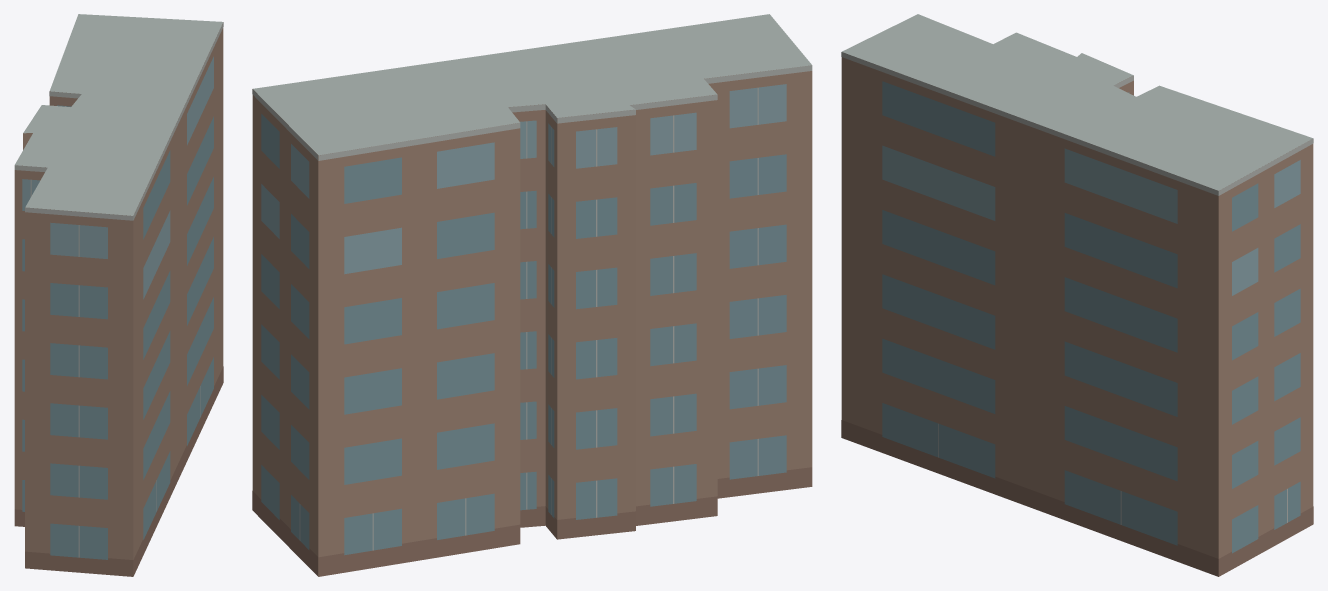
The model's file is survey-upis-33012547.glb.
3 renders of one model, left to right at view 1: azimuth 30°, elevation 25°; view 2: azimuth 150°, elevation 25°; view 3: azimuth 270°, elevation 25°, orthographic. The views are drawn at different scales.
Visible parts, largest first — view 1: survey-upis-33012547.tmp; view 2: survey-upis-33012547.tmp; view 3: survey-upis-33012547.tmp.
Boxes of the visible parts, x1=… form: survey-upis-33012547.tmp: x1=14, y1=14, x2=223, y2=576; survey-upis-33012547.tmp: x1=252, y1=14, x2=812, y2=576; survey-upis-33012547.tmp: x1=841, y1=14, x2=1313, y2=576.
Bounding box in the file's own units: 17.99 × 18.3 × 20.29.
